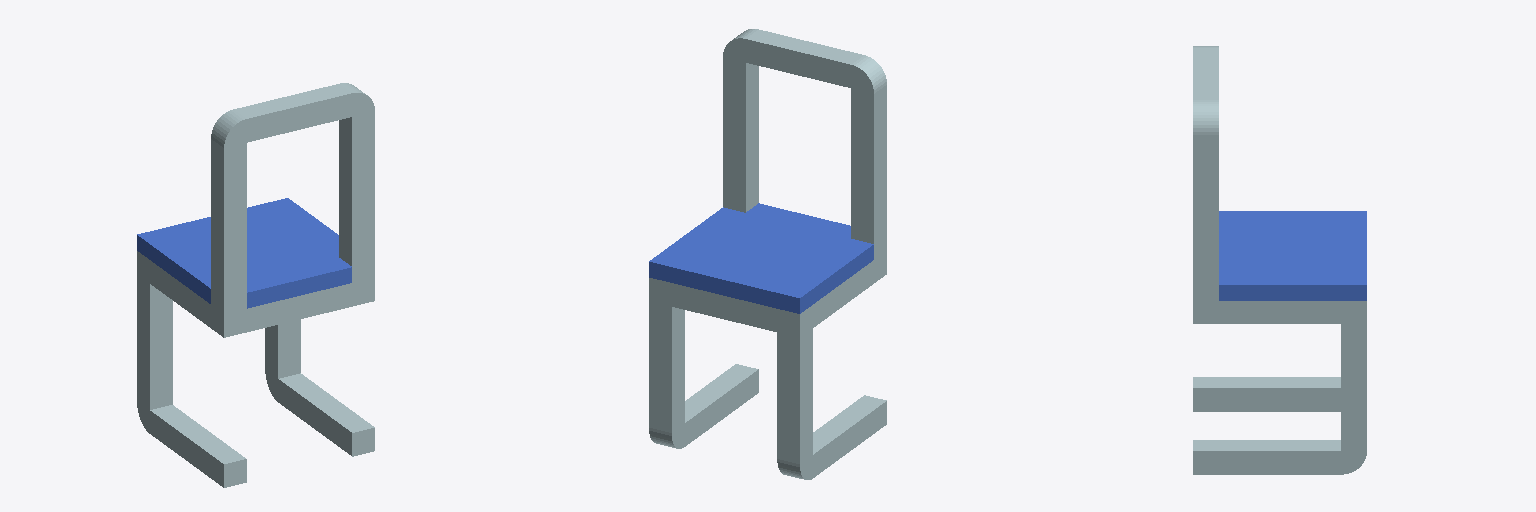
3 views of the same model, side by side, from view 1: azimuth 30°, elevation 25°; view 2: azimuth 150°, elevation 25°; view 3: azimuth 270°, elevation 25° (orthographic).
Visible parts, largest first — view 1: chairModernFrameCushion; view 2: chairModernFrameCushion; view 3: chairModernFrameCushion.
Part boxes in pixels (bbox=[...]): chairModernFrameCushion: bbox=[137, 83, 374, 487]; chairModernFrameCushion: bbox=[649, 29, 886, 479]; chairModernFrameCushion: bbox=[1193, 46, 1366, 474].
Size of the model in its own units: 0.4348 by 1 by 0.4348.